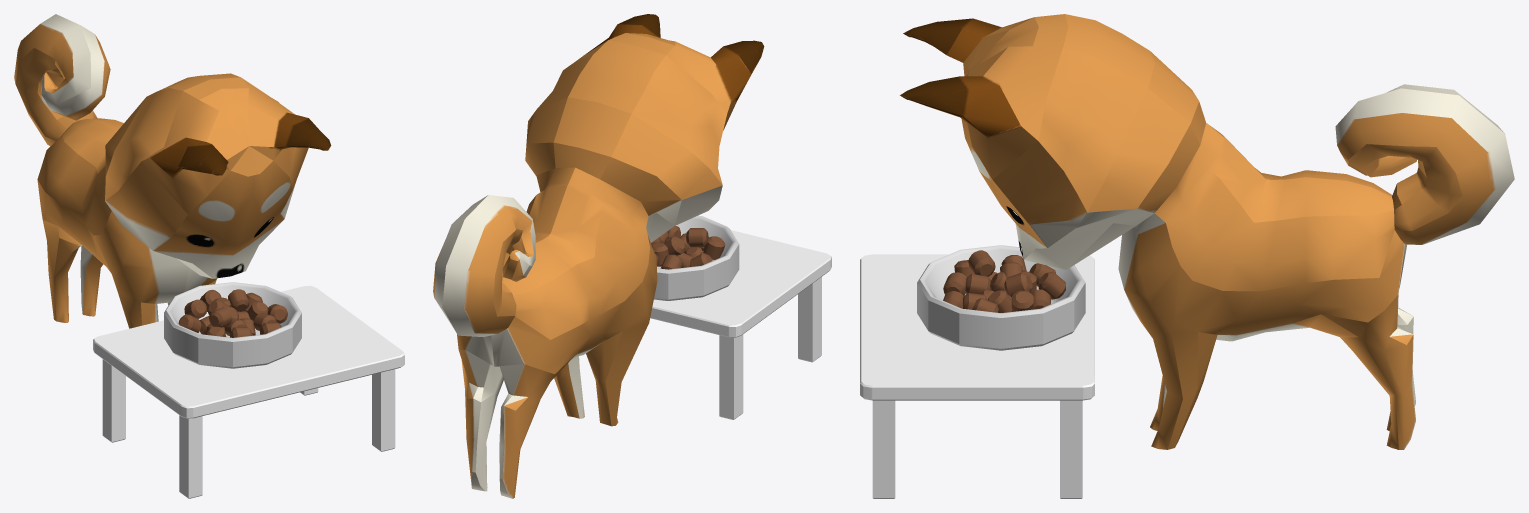
Rendered from fullBowl_frame13.obj.
3 views of the same model, side by side, from view 1: azimuth 30°, elevation 25°; view 2: azimuth 150°, elevation 25°; view 3: azimuth 270°, elevation 25° (orthographic). The views are drawn at different scales.
Parts seen in each view (by area): view 1: newRigging1:BodzL1, Tisch:Tisch:pCube1, FressnapfFull:bulletRigidSetSolved1; view 2: newRigging1:BodzL1, Tisch:Tisch:pCube1, FressnapfFull:bulletRigidSetSolved1; view 3: newRigging1:BodzL1, Tisch:Tisch:pCube1, FressnapfFull:bulletRigidSetSolved1.
Part boxes in pixels (bbox=[...]): newRigging1:BodzL1: bbox=[14, 14, 331, 328]; Tisch:Tisch:pCube1: bbox=[93, 285, 404, 498]; FressnapfFull:bulletRigidSetSolved1: bbox=[164, 282, 301, 368]; newRigging1:BodzL1: bbox=[433, 14, 764, 498]; Tisch:Tisch:pCube1: bbox=[650, 230, 831, 419]; FressnapfFull:bulletRigidSetSolved1: bbox=[654, 215, 739, 300]; newRigging1:BodzL1: bbox=[900, 14, 1514, 449]; Tisch:Tisch:pCube1: bbox=[860, 254, 1094, 498]; FressnapfFull:bulletRigidSetSolved1: bbox=[917, 245, 1085, 350].
Size of the model in its own units: 4.51 by 6.53 by 9.44.
4 materials, 3 textured.
